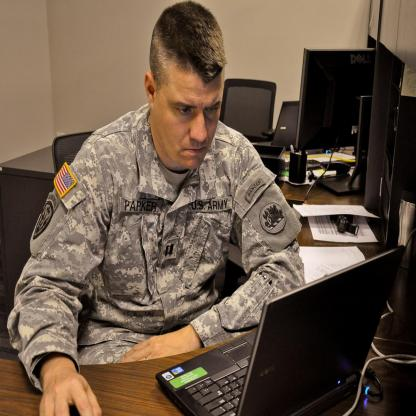board: (154, 244, 403, 416), (250, 102, 300, 150)
